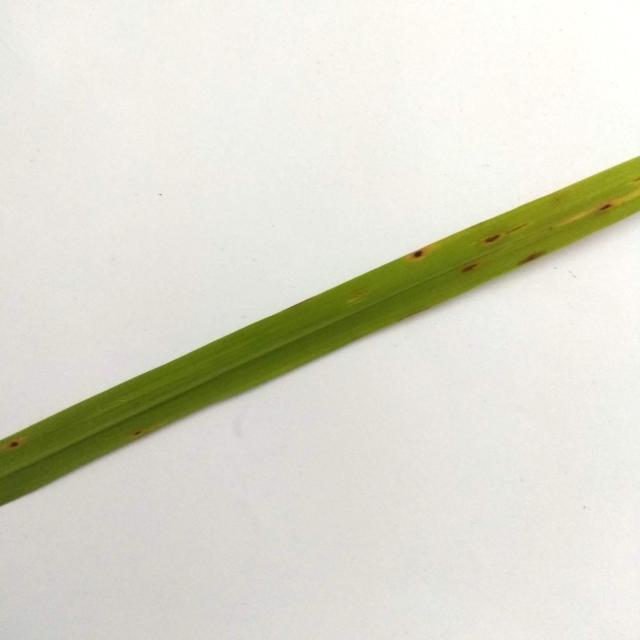Brown spot: (0, 91, 640, 523)
